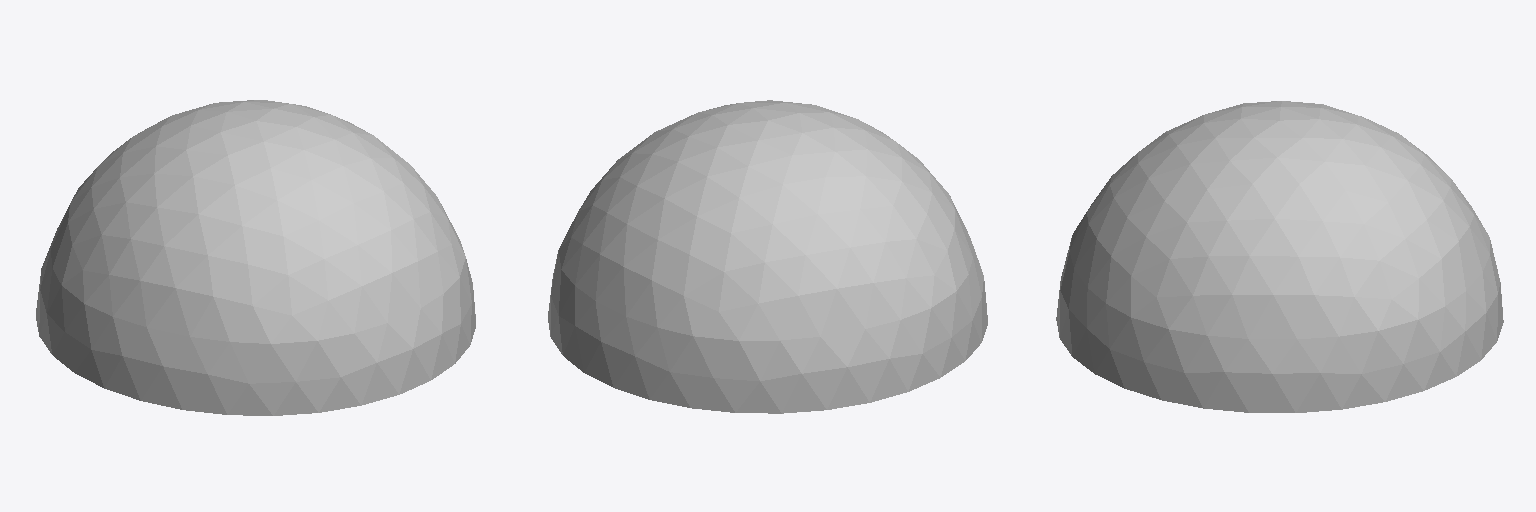
Rendered from skybox.obj.
3 renders of one model, left to right at view 1: azimuth 30°, elevation 25°; view 2: azimuth 150°, elevation 25°; view 3: azimuth 270°, elevation 25°, orthographic.
Bounding box in the file's own units: 3353 × 2288 × 3428.